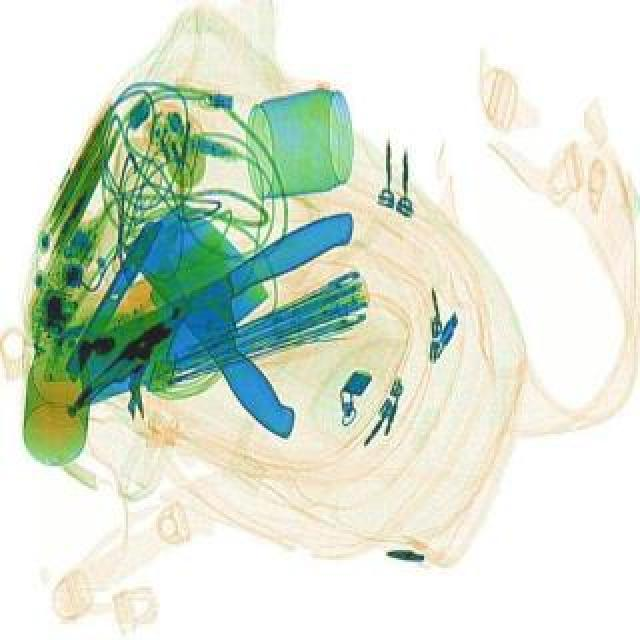knife: (48, 206, 384, 410), (112, 194, 352, 442)
